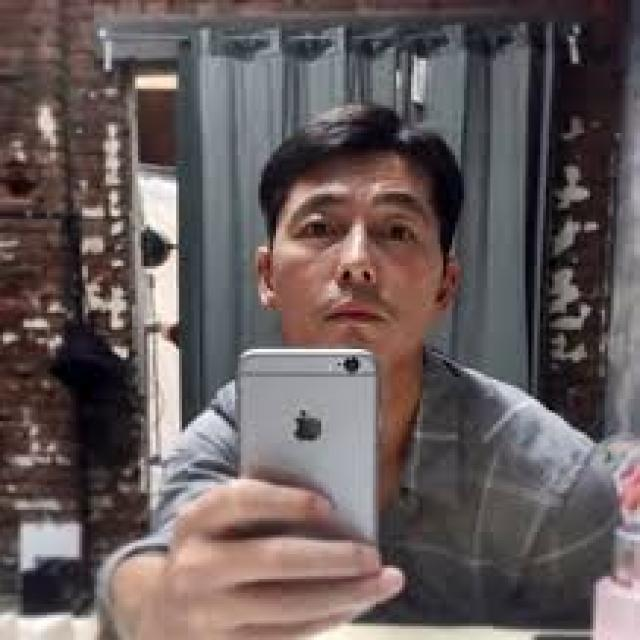Phone: (236, 341, 384, 537)
